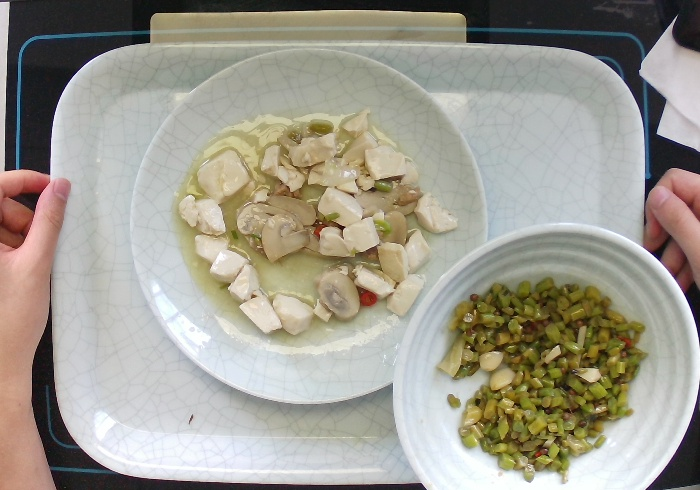JYsf-Da_Tang_Wan: (384, 219, 699, 490)
JYsf-Da_Yuan_Pan: (126, 43, 487, 408)
